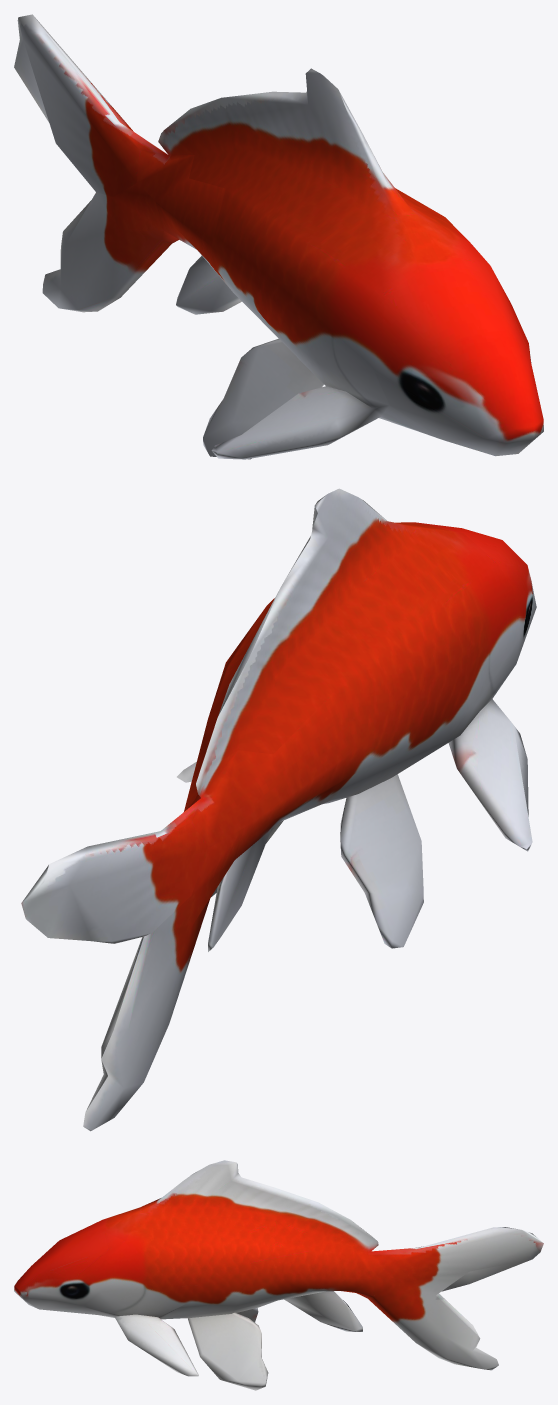
The model's file is fish.glb.
3 views of the same model, one above another, from view 1: azimuth 30°, elevation 25°; view 2: azimuth 150°, elevation 25°; view 3: azimuth 270°, elevation 25° (orthographic). The views are drawn at different scales.
Parts seen in each view (by area): view 1: koifish_0; view 2: koifish_0; view 3: koifish_0.
Part boxes in pixels (bbox=[...]): koifish_0: bbox=[14, 14, 543, 459]; koifish_0: bbox=[21, 488, 536, 1131]; koifish_0: bbox=[14, 1160, 543, 1390].
Size of the model in its own units: 0.3668 by 0.4526 by 1.
Materials: 1 (1 with a texture image).
